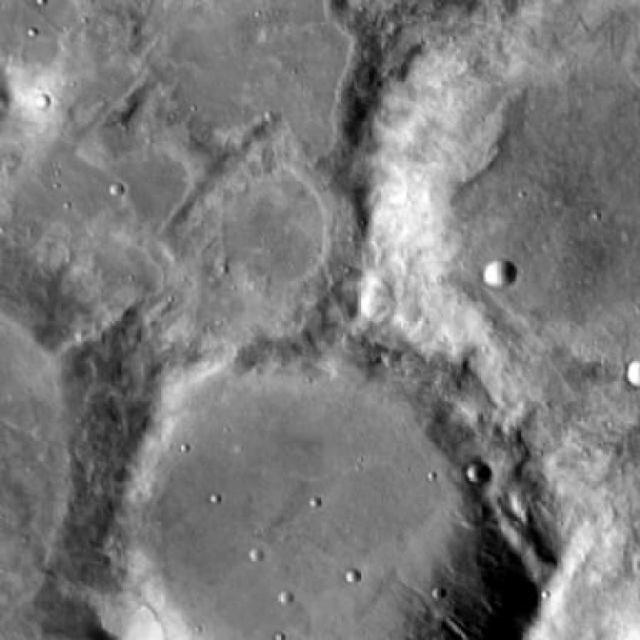crater: (84, 343, 544, 640), (482, 258, 515, 287), (465, 461, 492, 485), (627, 356, 640, 388)
